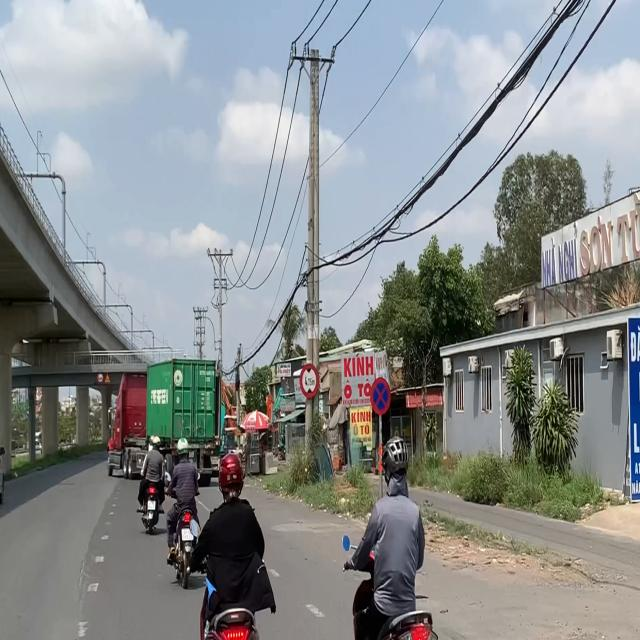Cam dung va do: (370, 375, 392, 417)
Chieu cao toi da: (299, 364, 319, 398)
